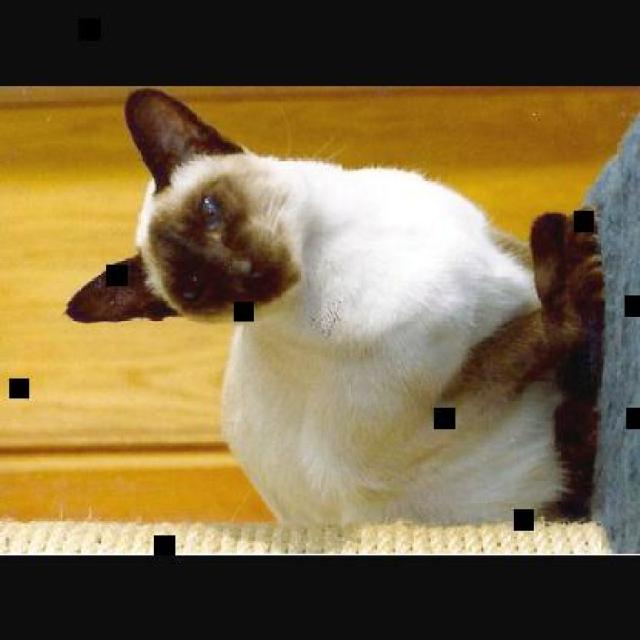unauthorized: (121, 86, 604, 528)
